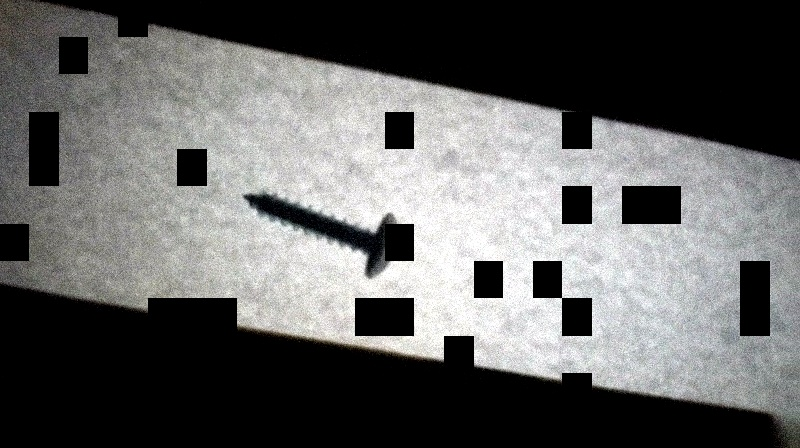S003: (237, 185, 402, 282)
